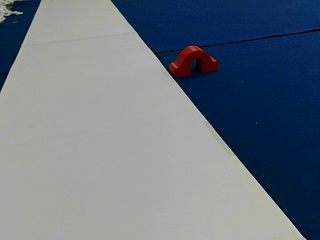bridge: (171, 46, 217, 74)
